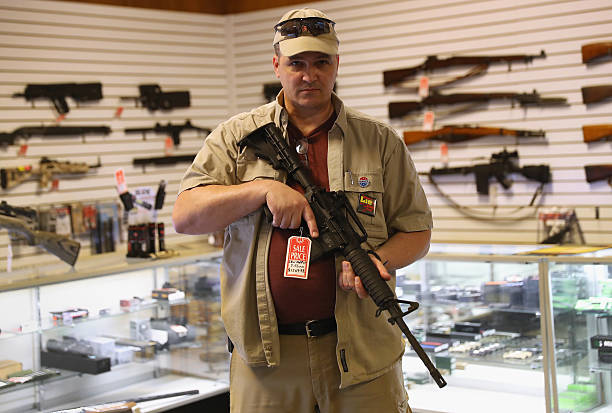rifle: (238, 121, 450, 407), (376, 47, 549, 84), (1, 151, 105, 196), (14, 77, 111, 118), (120, 81, 199, 111)
